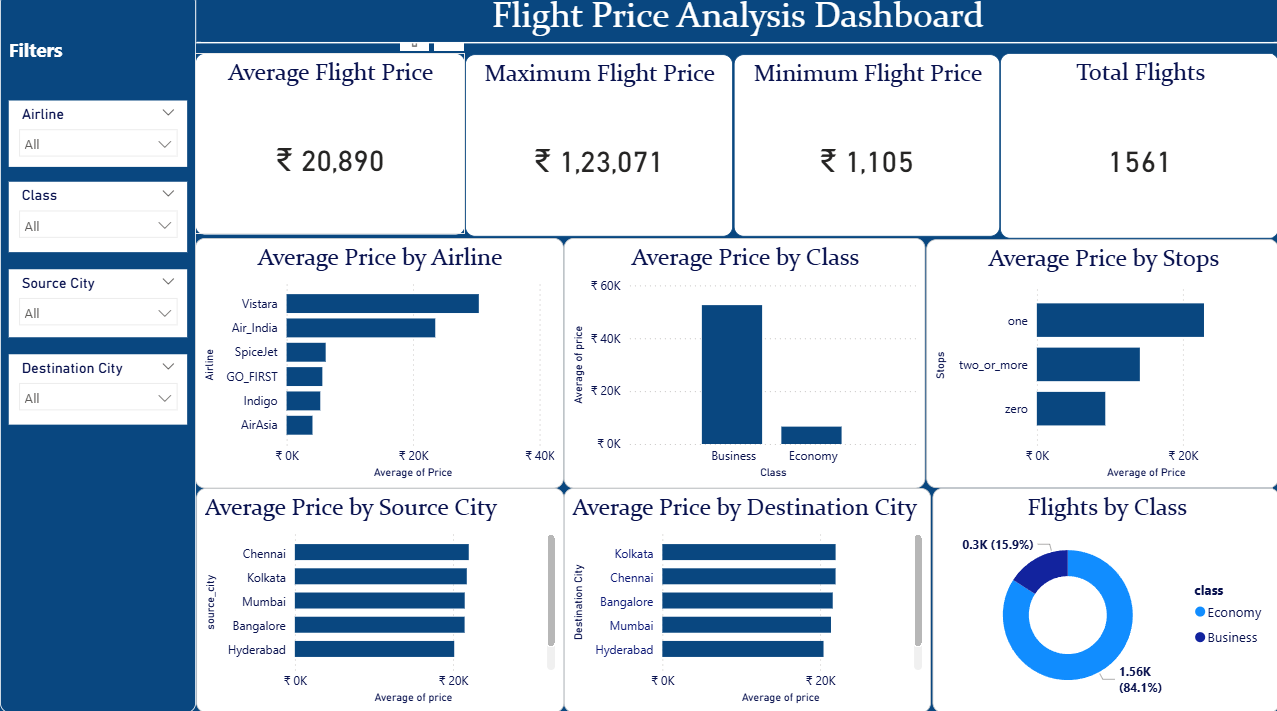

The dashboard page shown, as its layout file describes it:
{"tool":"powerbi","page":{"name":"Page 1","canvas":[1280,720],"ordinal":0},"visuals":[{"type":"textbox","box":[0,0,195.7,720.2],"z":0},{"type":"card","title":"Average Flight Price","fields":{"Values":["Avg(Clean_Dataset.price)"]},"box":[195.2,59.5,270.2,182.1],"z":1000},{"type":"card","title":"Maximum Flight Price","fields":{"Values":["Max(Clean_Dataset.price)"]},"box":[465.5,60.7,267.9,182.1],"z":2000},{"type":"card","title":"Minimum Flight Price","fields":{"Values":["Min(Clean_Dataset.price)"]},"box":[733.3,60.7,266.7,182.1],"z":3000},{"type":"card","title":"Total Flights","fields":{"Values":["Count(Clean_Dataset.flight)"]},"box":[1000,59.5,279.8,185.7],"z":3001},{"type":"clusteredBarChart","title":"Average Price by Airline","fields":{"Category":["Clean_Dataset.airline"],"Y":["Avg(Clean_Dataset.price)"]},"box":[195,245,368.8,250],"z":3002},{"type":"clusteredColumnChart","title":"Average Price by Class","fields":{"Category":["Clean_Dataset.class"],"Y":["Avg(Clean_Dataset.price)"]},"box":[564.3,245.2,361.9,250],"z":3003},{"type":"textbox","title":"Flight Price Analysis Dashboard","box":[196.4,0,1083.3,50],"z":3004},{"type":"clusteredBarChart","title":"Average Price by Stops","fields":{"Category":["Clean_Dataset.stops"],"Y":["Avg(Clean_Dataset.price)"]},"box":[926.2,246.2,353.8,248.8],"z":3005},{"type":"slicer","fields":{"Values":["Clean_Dataset.airline"]},"box":[8.3,107.1,178.6,66.7],"z":3006},{"type":"slicer","fields":{"Values":["Clean_Dataset.class"]},"box":[8.3,189.3,178.6,70.2],"z":3007},{"type":"slicer","fields":{"Values":["Clean_Dataset.source_city"]},"box":[8.3,276.2,178.6,67.9],"z":3008},{"type":"slicer","fields":{"Values":["Clean_Dataset.destination_city"]},"box":[8.3,360.7,178.6,70.2],"z":3009},{"type":"clusteredBarChart","title":"Average Price by Destination City","fields":{"Category":["Clean_Dataset.destination_city"],"Y":["Avg(Clean_Dataset.price)"]},"box":[563.8,495,367.5,225],"z":3010},{"type":"clusteredBarChart","title":"Average Price by Source City","fields":{"Category":["Clean_Dataset.source_city"],"Y":["Avg(Clean_Dataset.price)"]},"box":[196,495,368,225],"z":3011},{"type":"donutChart","title":"Flights by Class","fields":{"Y":["Count(Clean_Dataset.flight)"],"Category":["Clean_Dataset.class"]},"box":[932,495,348,225],"z":3012}]}

Visuals, with their boxes in screenshot pixels (x1, y1, x2, y2), scaled from the page's 1280x720 canvas onto the 1277x711 screenshot:
textbox: box(0, 0, 195, 710)
"Average Flight Price" card: box(195, 59, 464, 239)
"Maximum Flight Price" card: box(464, 60, 732, 240)
"Minimum Flight Price" card: box(732, 60, 998, 240)
"Total Flights" card: box(998, 59, 1276, 242)
"Average Price by Airline" clusteredBarChart: box(195, 242, 562, 489)
"Average Price by Class" clusteredColumnChart: box(563, 242, 924, 489)
"Flight Price Analysis Dashboard" textbox: box(196, 0, 1276, 49)
"Average Price by Stops" clusteredBarChart: box(924, 243, 1276, 489)
slicer - Clean_Dataset.airline: box(8, 106, 186, 172)
slicer - Clean_Dataset.class: box(8, 187, 186, 256)
slicer - Clean_Dataset.source_city: box(8, 273, 186, 340)
slicer - Clean_Dataset.destination_city: box(8, 356, 186, 426)
"Average Price by Destination City" clusteredBarChart: box(562, 489, 929, 710)
"Average Price by Source City" clusteredBarChart: box(196, 489, 563, 710)
"Flights by Class" donutChart: box(930, 489, 1276, 710)
